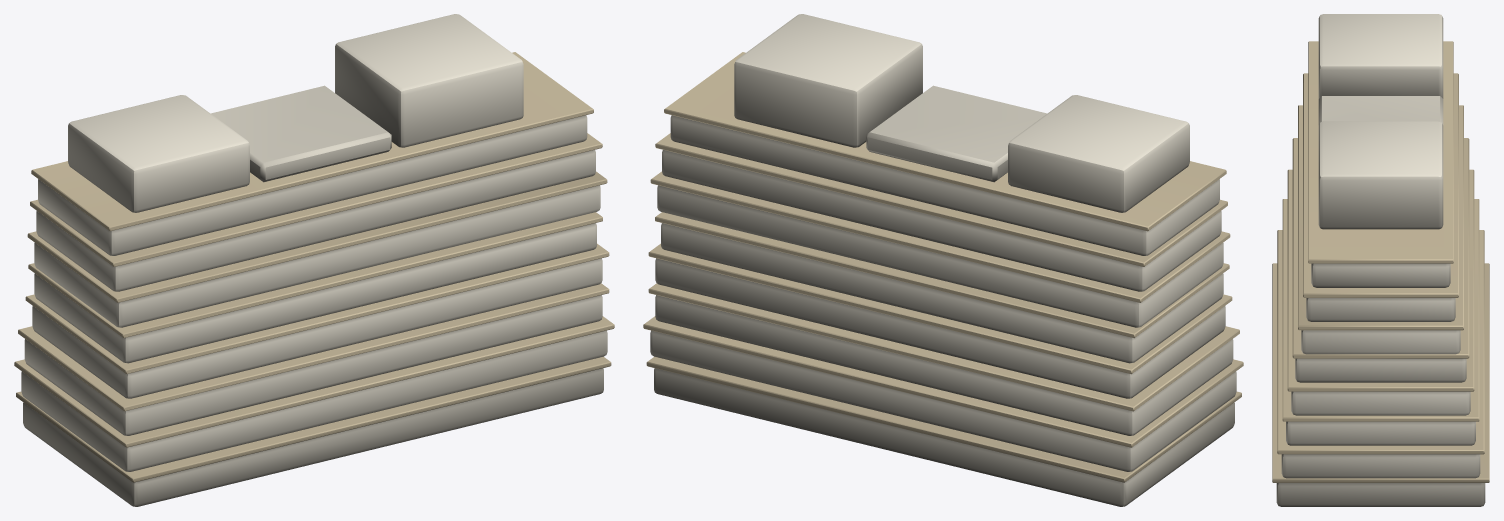
File: hangtu_wall.glb
3 views of the same model, side by side, from view 1: azimuth 30°, elevation 25°; view 2: azimuth 150°, elevation 25°; view 3: azimuth 270°, elevation 25° (orthographic). The views are drawn at different scales.
Parts seen in each view (by area): view 1: hangtu_wall; view 2: hangtu_wall; view 3: hangtu_wall.
Part boxes in pixels (x1=…): hangtu_wall: x1=14, y1=14, x2=614, y2=506; hangtu_wall: x1=643, y1=14, x2=1243, y2=506; hangtu_wall: x1=1272, y1=14, x2=1489, y2=506.
Size of the model in its own units: 4.74 by 3.05 by 1.96.
